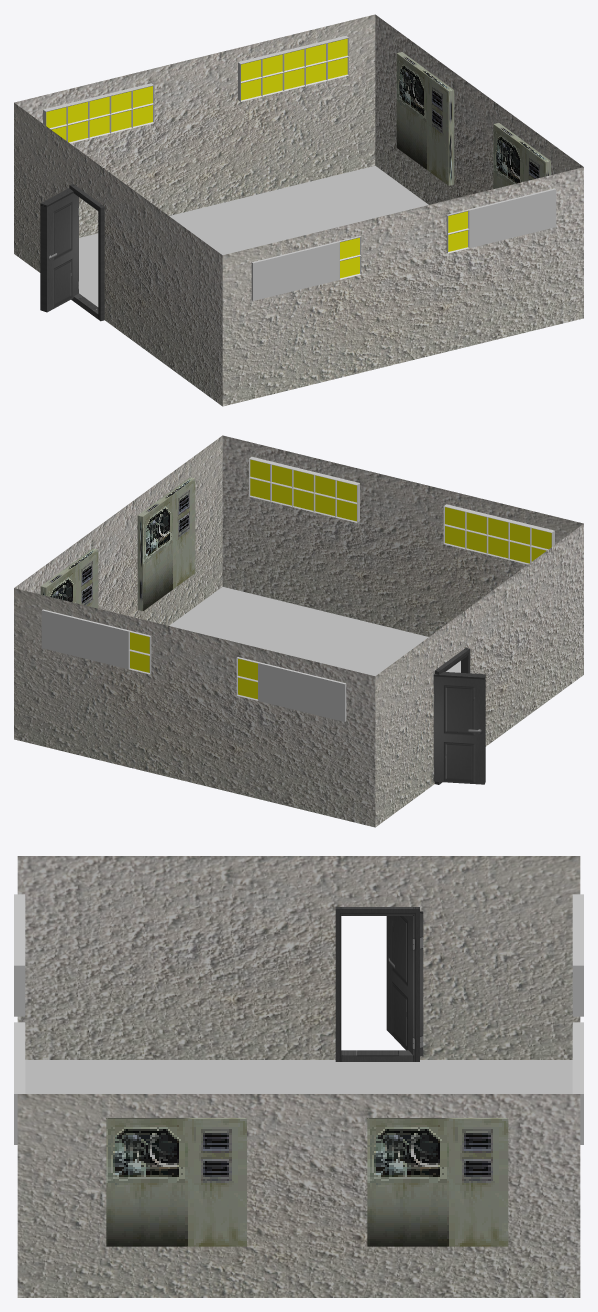
The model's file is safehouse.FBX.
3 views of the same model, one above another, from view 1: azimuth 30°, elevation 25°; view 2: azimuth 150°, elevation 25°; view 3: azimuth 270°, elevation 25° (orthographic). The views are drawn at different scales.
Visible parts, largest first — view 1: Box001, Box002, Box005, 对象001, Box006, Box007; view 2: Box001, Box002, Box006, 对象001, Box005; view 3: Box001, Box005, Box006, Box002, 对象001, Box007.
Part boxes in pixels (x1,y1,x2,y2): Box001: [14, 14, 583, 406]; Box002: [43, 35, 556, 300]; Box005: [396, 52, 454, 185]; 对象001: [40, 188, 78, 312]; Box006: [493, 123, 550, 188]; Box007: [69, 184, 104, 321]; Box001: [14, 435, 583, 827]; Box002: [41, 456, 554, 721]; Box006: [137, 477, 195, 611]; 对象001: [433, 671, 485, 784]; Box005: [40, 548, 98, 608]; Box001: [17, 856, 580, 1297]; Box005: [367, 1118, 508, 1246]; Box006: [106, 1118, 246, 1246]; Box002: [14, 894, 583, 1144]; 对象001: [386, 911, 423, 1056]; Box007: [335, 907, 419, 1061].
Size of the model in its own units: 112 by 40 by 101.
